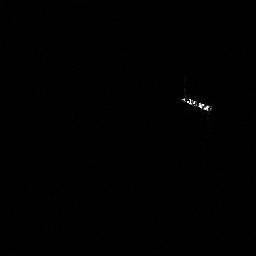ship: (177, 94, 215, 113)
